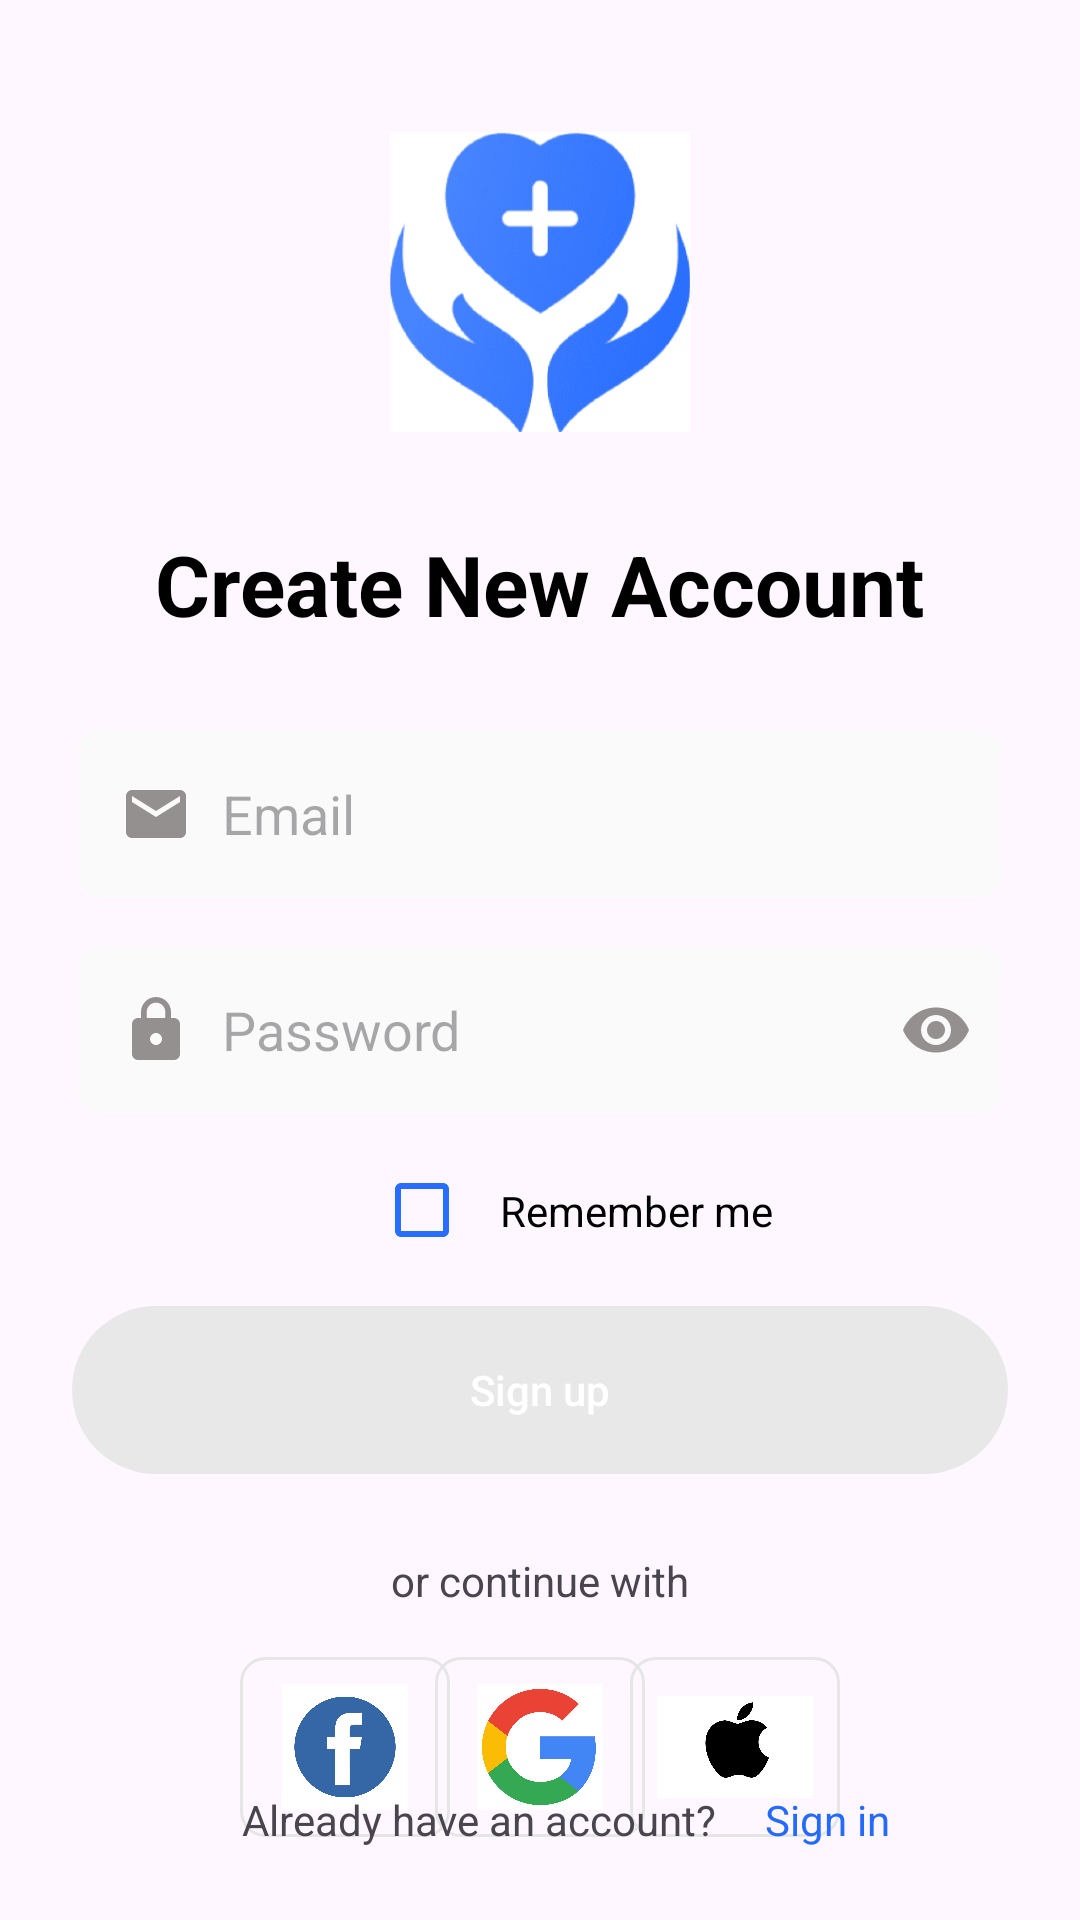

Screen size 1080*1920. Icon name, then its center in pixels as [x,y]:
lock: [156,1028]
